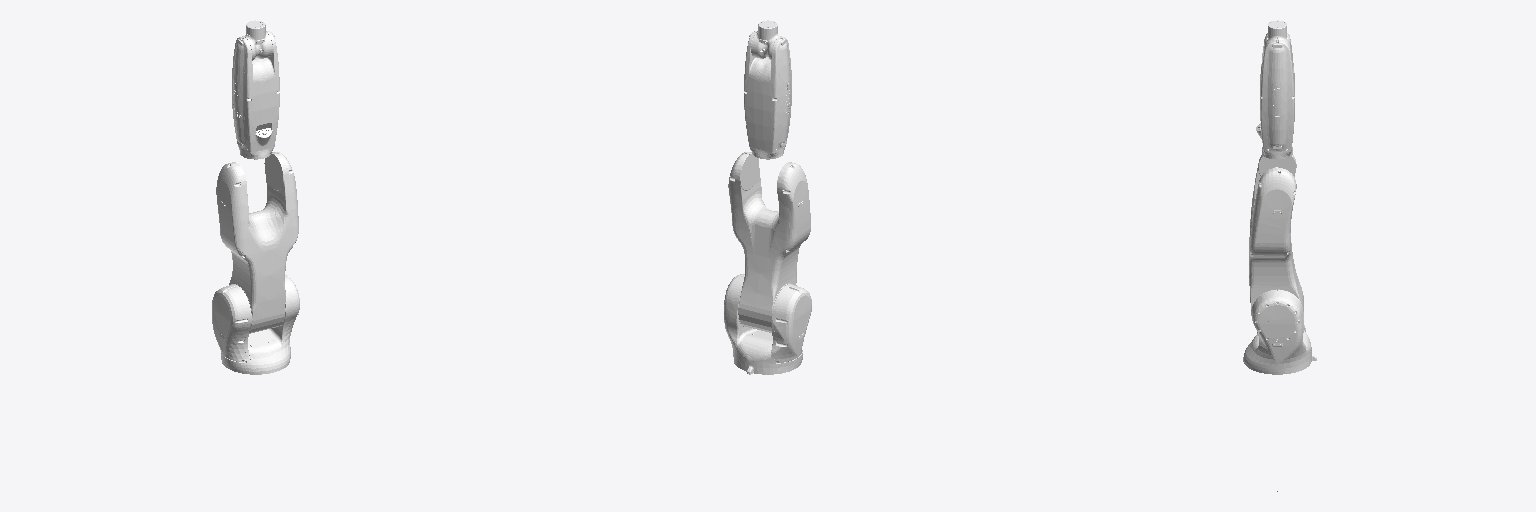
robot.urdf — HLRobot:
<?xml version="1.0" encoding="utf-8"?>
<!-- This URDF was automatically created by SolidWorks to URDF Exporter! Originally created by [author] ([email redacted]) 
     Commit Version: 1.6.0-1-g15f4949  Build Version: 1.6.7594.29634
     For more information, please see http://wiki.ros.org/sw_urdf_exporter -->
<robot name="HLRobot">
    <link name="base_footprint">
        <visual>
            <origin xyz="0 0 0" rpy="0 0 0" />
            <geometry>
                <sphere radius="0.001"/>
            </geometry>
        </visual>
        <collision>
            <origin xyz="0 0 0" rpy="0 0 0" />
            <geometry>
                <sphere radius="0.001"/>
            </geometry>
        </collision>
    </link>
    <link name="base_link">
        <inertial>
            <origin xyz="0.000539573047060369 -0.0205236208982336 0.327509567901413" rpy="0 0 0" />
            <mass value="5.47150127694947" />
            <inertia ixx="0.10581489524942" ixy="0.000527121157082598" ixz="-7.56911148408964E-05" iyy="0.107337475091701" iyz="-0.0015416852832563" izz="0.101543534070196" />
        </inertial>
        <visual>
            <origin xyz="0 0 0" rpy="0 0 0" />
            <geometry>
                <mesh filename="package://hlrobot/meshes/base_link.STL" />
            </geometry>
            <material name="">
                <color rgba="0.52156862745098 0.541176470588235 0.541176470588235 1" />
            </material>
        </visual>
        <collision>
            <origin xyz="0 0 0" rpy="0 0 0" />
            <geometry>
                <mesh filename="package://hlrobot/meshes/base_link.STL" />
            </geometry>
        </collision>
    </link>
    <joint name="base_footprint2base_link" type="fixed">
        <origin xyz="0 0 0" rpy="0 0 0" />
        <parent link="base_footprint" />
        <child link="base_link" />
        <axis xyz="0 0 -1" />
    </joint>
    <link name="link1">
        <inertial>
            <origin xyz="0.0061899 0.00043445 0.10849" rpy="0 0 0" />
            <mass value="5.8652" />
            <inertia ixx="0.07013" ixy="2.32E-05" ixz="0.00092902" iyy="0.046945" iyz="-0.00029004" izz="0.047319" />
        </inertial>
        <visual>
            <origin xyz="0 0 0" rpy="0 0 0" />
            <geometry>
                <mesh filename="package://hlrobot/meshes/link1.STL" />
            </geometry>
            <material name="">
                <color rgba="1 1 1 1" />
            </material>
        </visual>
        <collision>
            <origin xyz="0 0 0" rpy="0 0 0" />
            <geometry>
                <mesh filename="package://hlrobot/meshes/link1.STL" />
            </geometry>
        </collision>
    </link>
    <joint name="joint1" type="continuous">
        <origin xyz="0 0 0.45467" rpy="0 0 1.5708" />
        <parent link="base_link" />
        <child link="link1" />
        <axis xyz="0 0 -1" />
    </joint>
    <link name="link2">
        <inertial>
            <origin xyz="-0.012947 0.19509 -7.4996E-05" rpy="0 0 0" />
            <mass value="10.107" />
            <inertia ixx="0.26326" ixy="0.0038614" ixz="5.6195E-08" iyy="0.051701" iyz="-2.0524E-05" izz="0.24255" />
        </inertial>
        <visual>
            <origin xyz="0 0 0" rpy="0 0 0" />
            <geometry>
                <mesh filename="package://hlrobot/meshes/link2.STL" />
            </geometry>
            <material name="">
                <color rgba="1 1 1 1" />
            </material>
        </visual>
        <collision>
            <origin xyz="0 0 0" rpy="0 0 0" />
            <geometry>
                <mesh filename="package://hlrobot/meshes/link2.STL" />
            </geometry>
        </collision>
    </link>
    <joint name="joint2" type="continuous">
        <origin xyz="0 0.0001 0.18914" rpy="1.5708 0 0" />
        <parent link="link1" />
        <child link="link2" />
        <axis xyz="0 0 -1" />
    </joint>
    <link name="link3">
        <inertial>
            <origin xyz="-0.00010884 -0.013936 -0.00014291" rpy="0 0 0" />
            <mass value="2.6574" />
            <inertia ixx="0.0088618" ixy="1.3764E-05" ixz="1.2847E-08" iyy="0.0067874" iyz="5.738E-06" izz="0.0093701" />
        </inertial>
        <visual>
            <origin xyz="0 0 0" rpy="0 0 0" />
            <geometry>
                <mesh filename="package://hlrobot/meshes/link3.STL" />
            </geometry>
            <material name="">
                <color rgba="1 1 1 1" />
            </material>
        </visual>
        <collision>
            <origin xyz="0 0 0" rpy="0 0 0" />
            <geometry>
                <mesh filename="package://hlrobot/meshes/link3.STL" />
            </geometry>
        </collision>
    </link>
    <joint name="joint3" type="continuous">
        <origin xyz="0 0.45186 -0.0001" rpy="0 0 0" />
        <parent link="link2" />
        <child link="link3" />
        <axis xyz="0 0 -1" />
    </joint>
    <link name="link4">
        <inertial>
            <origin xyz="-8.8639E-05 -8.2193E-05 0.18467" rpy="0 0 0" />
            <mass value="4.3453" />
            <inertia ixx="0.047411" ixy="4.2128E-08" ixz="-5.2664E-05" iyy="0.044812" iyz="6.5921E-05" izz="0.0095846" />
        </inertial>
        <visual>
            <origin xyz="0 0 0" rpy="0 0 0" />
            <geometry>
                <mesh filename="package://hlrobot/meshes/link4.STL" />
            </geometry>
            <material name="">
                <color rgba="1 1 1 1" />
            </material>
        </visual>
        <collision>
            <origin xyz="0 0 0" rpy="0 0 0" />
            <geometry>
                <mesh filename="package://hlrobot/meshes/link4.STL" />
            </geometry>
        </collision>
    </link>
    <joint name="joint4" type="continuous">
        <origin xyz="0 0.08 0" rpy="-1.5708 0 0" />
        <parent link="link3" />
        <child link="link4" />
        <axis xyz="0 0 -1" />
    </joint>
    <link name="link5">
        <inertial>
            <origin xyz="-9.0182E-09 0.015067 0.00097029" rpy="0 0 0" />
            <mass value="0.48663" />
            <inertia ixx="0.00067095" ixy="-1.0278E-10" ixz="-6.7463E-10" iyy="0.00039174" iyz="1.1694E-05" izz="0.00062744" />
        </inertial>
        <visual>
            <origin xyz="0 0 0" rpy="0 0 0" />
            <geometry>
                <mesh filename="package://hlrobot/meshes/link5.STL" />
            </geometry>
            <material name="">
                <color rgba="1 1 1 1" />
            </material>
        </visual>
        <collision>
            <origin xyz="0 0 0" rpy="0 0 0" />
            <geometry>
                <mesh filename="package://hlrobot/meshes/link5.STL" />
            </geometry>
        </collision>
    </link>
    <joint name="joint5" type="continuous">
        <origin xyz="0 0 0.37" rpy="1.5708 0 0" />
        <parent link="link4" />
        <child link="link5" />
        <axis xyz="0 0 -1" />
    </joint>
    <link name="link6">
        <inertial>
            <origin xyz="0.00018284 0.0001011 0.0031318" rpy="0 0 0" />
            <mass value="0.0077858" />
            <inertia ixx="9.1978E-07" ixy="-1.27E-08" ixz="-1.5206E-09" iyy="9.0815E-07" iyz="-4.1377E-10" izz="1.7718E-06" />
        </inertial>
        <visual>
            <origin xyz="0 0 0" rpy="0 0 0" />
            <geometry>
                <mesh filename="package://hlrobot/meshes/link6.STL" />
            </geometry>
            <material name="">
                <color rgba="1 1 1 1" />
            </material>
        </visual>
        <collision>
            <origin xyz="0 0 0" rpy="0 0 0" />
            <geometry>
                <mesh filename="package://hlrobot/meshes/link6.STL" />
            </geometry>
        </collision>
    </link>
    <joint name="joint6" type="continuous">
        <origin xyz="0 0.0773 0" rpy="1.5708 1.5708 0" />
        <parent link="link5" />
        <child link="link6" />
        <axis xyz="0 0 -1" />
    </joint>

    <!-- transmission -->
    <transmission name="joint1_trans">
        <type>transmission_interface/SimpleTransmission</type>
        <joint name="joint1">
            <hardwareInterface>hardware_interface/PositionJointInterface</hardwareInterface>
        </joint>
        <actuator name="motor1">
            <mechanicalReduction>1</mechanicalReduction>
        </actuator>
    </transmission>
    <!-- transmission -->
    <transmission name="join2_trans">
        <type>transmission_interface/SimpleTransmission</type>
        <joint name="joint2">
            <hardwareInterface>hardware_interface/PositionJointInterface</hardwareInterface>
        </joint>
        <actuator name="motor2">
            <mechanicalReduction>1</mechanicalReduction>
        </actuator>
    </transmission>
    <!-- transmission -->
    <transmission name="joint3_trans">
        <type>transmission_interface/SimpleTransmission</type>
        <joint name="joint3">
            <hardwareInterface>hardware_interface/PositionJointInterface</hardwareInterface>
        </joint>
        <actuator name="motor3">
            <mechanicalReduction>1</mechanicalReduction>
        </actuator>
    </transmission>
    <!-- transmission -->
    <transmission name="joint4_trans">
        <type>transmission_interface/SimpleTransmission</type>
        <joint name="joint4">
            <hardwareInterface>hardware_interface/PositionJointInterface</hardwareInterface>
        </joint>
        <actuator name="motor4">
            <mechanicalReduction>1</mechanicalReduction>
        </actuator>
    </transmission>
    <!-- transmission -->
    <transmission name="joint5_trans">
        <type>transmission_interface/SimpleTransmission</type>
        <joint name="joint5">
            <hardwareInterface>hardware_interface/PositionJointInterface</hardwareInterface>
        </joint>
        <actuator name="motor5">
            <mechanicalReduction>1</mechanicalReduction>
        </actuator>
    </transmission>
    <transmission name="joint6_trans">
        <type>transmission_interface/SimpleTransmission</type>
        <joint name="joint6">
            <hardwareInterface>hardware_interface/PositionJointInterface</hardwareInterface>
        </joint>
        <actuator name="motor6">
            <mechanicalReduction>1</mechanicalReduction>
        </actuator>
    </transmission>

    <!-- ROS Control plugin for Gazebo -->
    <gazebo>
        <plugin name="gazebo_ros_control" filename="libgazebo_ros_control.so"/>
    </gazebo>

</robot>

--- Render facts (derived) ---
Views: 3 orthographic renders of the robot side by side, from view 1: azimuth 30°, elevation 25°; view 2: azimuth 150°, elevation 25°; view 3: azimuth 270°, elevation 25°.
Model HLRobot with 8 links and 7 joints (6 continuous, 1 fixed), rooted at base_footprint, posed every joint at zero.
Links seen in each view (by area): view 1: link2, link1, link4, link5; view 2: link2, link1, link4, link5; view 3: link2, link1, link4.
Boxes of the visible links, left/top/right/bottom form: link2: left=216, top=152, right=298, bottom=333; link1: left=212, top=275, right=299, bottom=374; link4: left=232, top=31, right=279, bottom=159; link5: left=244, top=20, right=272, bottom=60; link2: left=728, top=152, right=810, bottom=332; link1: left=724, top=274, right=811, bottom=374; link4: left=744, top=31, right=791, bottom=159; link5: left=751, top=20, right=779, bottom=60; link2: left=1249, top=155, right=1302, bottom=310; link1: left=1243, top=287, right=1316, bottom=374; link4: left=1256, top=33, right=1294, bottom=159.
Size in the robot's own frame: 0.2498 by 0.2325 by 1.62 metres.
5 mesh visuals loaded from 7 distinct referenced files (5 binary STL); not drawn: 2 (reference not matched to a file when rendering).
